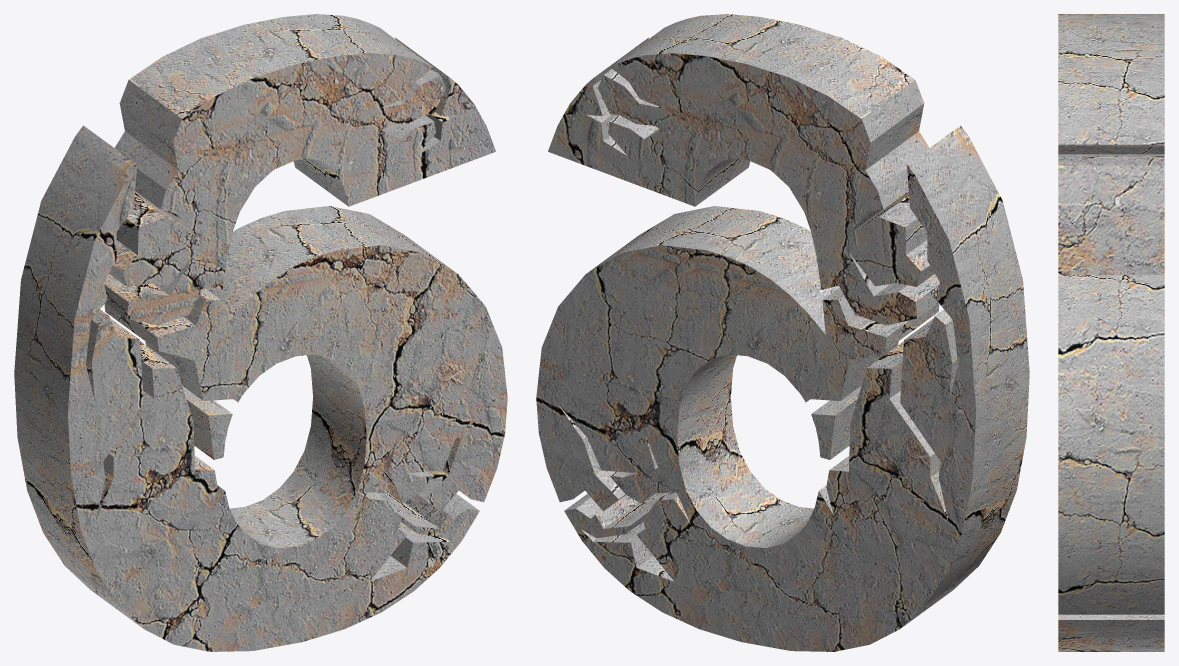
The picture shows the model from 3 angles, left to right: view 1: azimuth 30°, elevation 25°; view 2: azimuth 150°, elevation 25°; view 3: azimuth 270°, elevation 25°; orthographic projection.
Visible parts, largest first — view 1: 6; view 2: 6; view 3: 6.
Boxes of the visible parts, x1,y1,x2,y2 form: 6: (14, 14, 507, 651); 6: (536, 14, 1029, 651); 6: (1058, 14, 1164, 651).
Size of the model in its own units: 71.06 by 89.42 by 15.
Materials: 1 (1 with a texture image).
